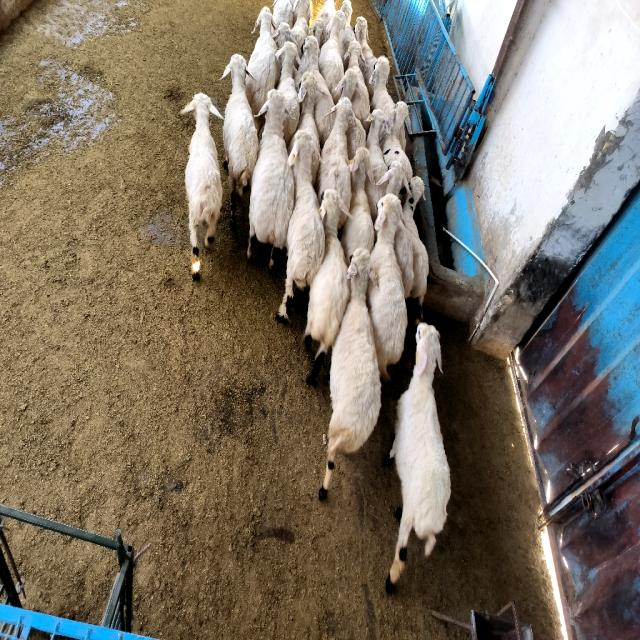sheep: (386, 323, 451, 591), (321, 248, 381, 489), (304, 188, 350, 384), (278, 130, 325, 319), (366, 193, 408, 380), (248, 90, 294, 258), (181, 93, 222, 279), (221, 53, 259, 229), (340, 147, 374, 264), (318, 98, 352, 208), (246, 7, 280, 114), (402, 177, 429, 308), (304, 35, 335, 146), (365, 110, 388, 221), (276, 42, 300, 146), (319, 12, 346, 101), (382, 102, 412, 181), (346, 40, 370, 126), (276, 0, 311, 54), (355, 17, 376, 96), (394, 220, 414, 298), (369, 57, 395, 117), (310, 0, 336, 47), (376, 162, 409, 196), (272, 0, 292, 28)
